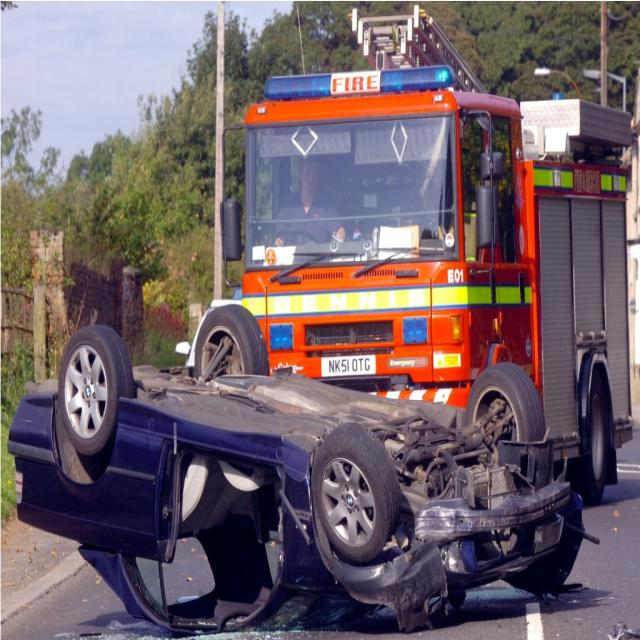accident: (9, 305, 584, 632)
emergency: (242, 6, 631, 502), (221, 200, 240, 261)
